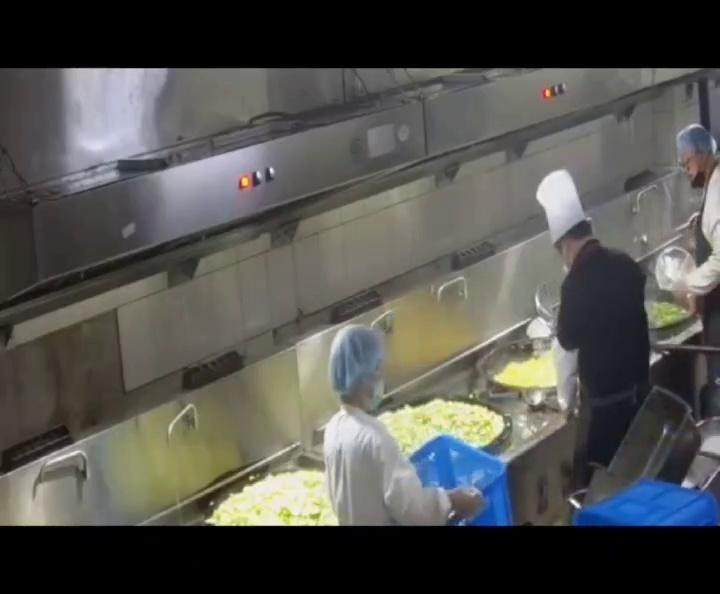mask: (678, 159, 715, 183)
